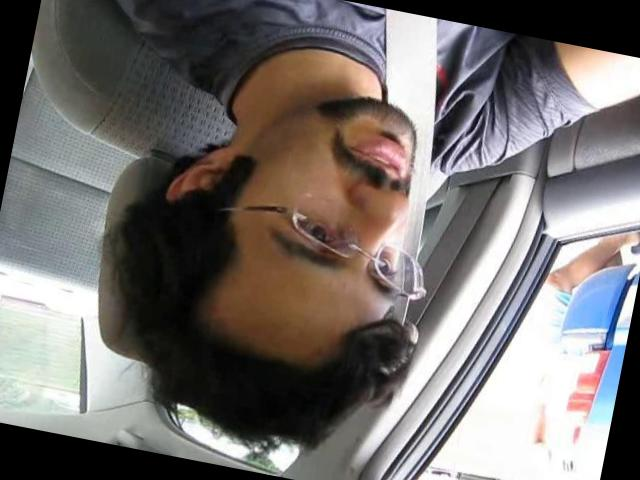eye_open: (283, 206, 345, 254), (366, 249, 404, 289)
face: (219, 79, 438, 312)
